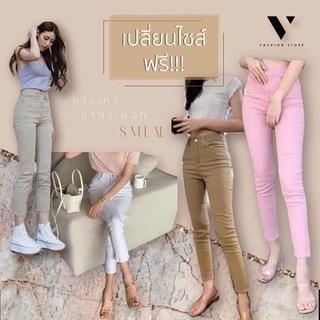Tshirt: (181, 77, 242, 130)
pants: (244, 69, 313, 262), (182, 133, 246, 296), (12, 91, 50, 227), (89, 170, 135, 275)
